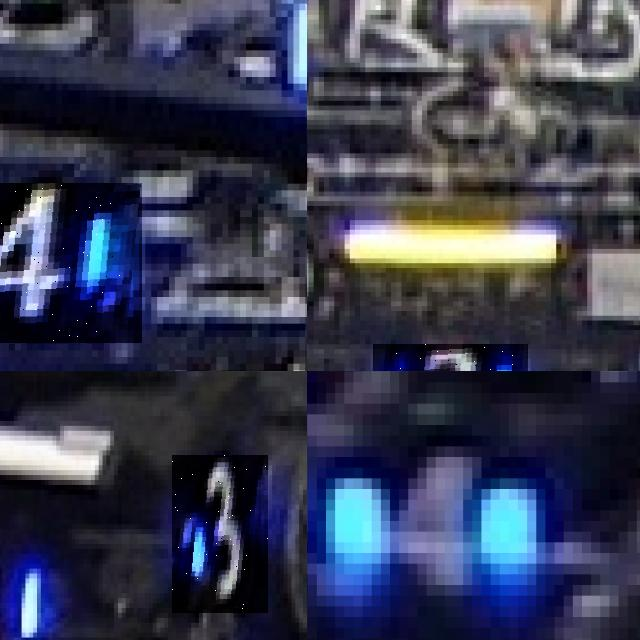B2: (373, 344, 528, 371)
B3: (172, 455, 268, 613), (0, 516, 54, 640)
B4: (317, 446, 545, 585), (0, 183, 142, 343)
